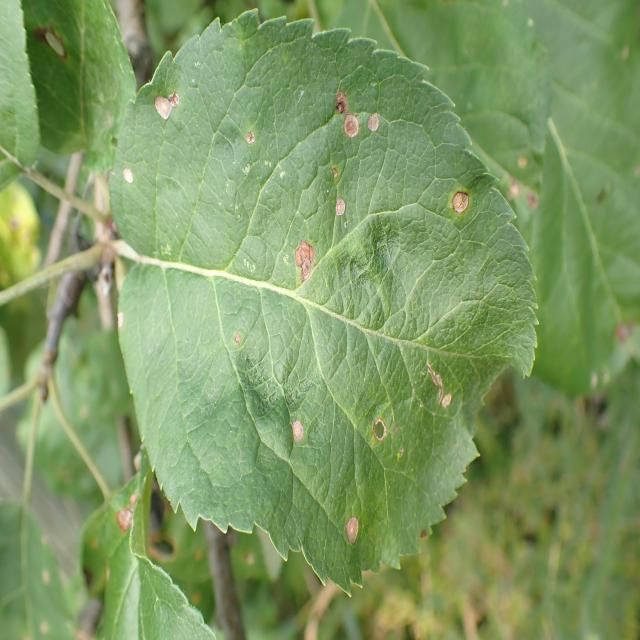Black Rot: (350, 395, 400, 476), (137, 65, 182, 153), (426, 347, 466, 427), (110, 142, 158, 200), (280, 235, 322, 297), (271, 405, 321, 450), (331, 501, 372, 555), (228, 322, 259, 383), (327, 184, 360, 235), (330, 83, 360, 139), (450, 170, 472, 243), (240, 114, 263, 169), (319, 134, 342, 188), (365, 99, 386, 151)
